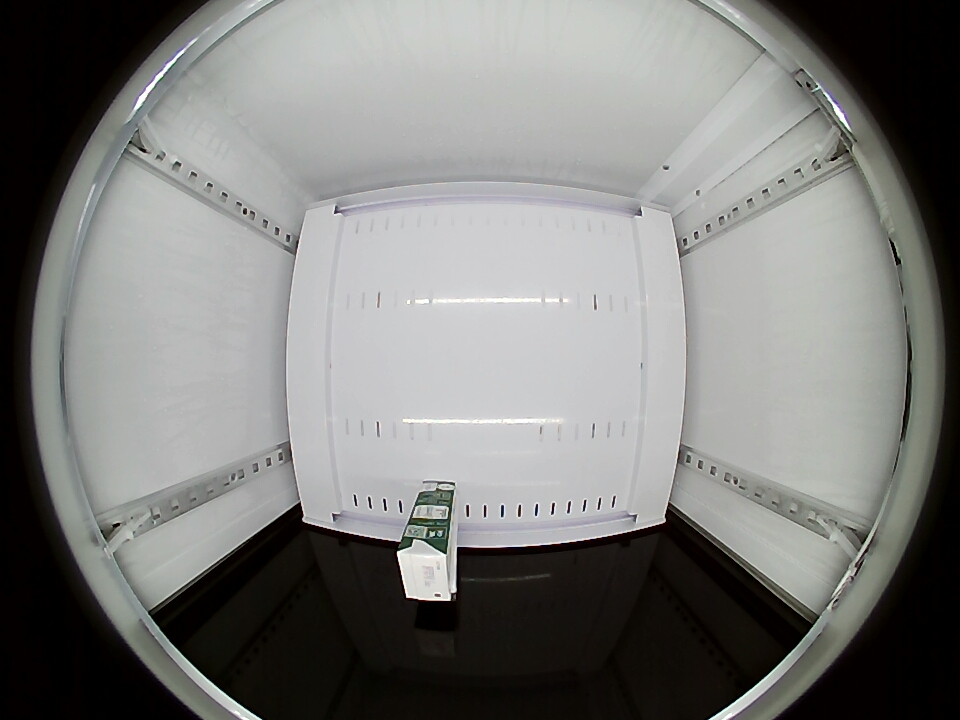jindian: (396, 529, 457, 603)
